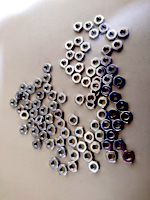nut: (122, 150, 135, 164), (114, 139, 127, 152), (102, 139, 115, 152), (112, 39, 125, 52), (106, 151, 119, 163), (88, 161, 101, 173), (90, 141, 102, 154), (100, 119, 112, 132), (120, 111, 133, 123), (106, 129, 118, 141), (118, 27, 130, 39), (84, 132, 95, 144), (68, 115, 79, 127), (113, 121, 125, 132), (116, 101, 128, 112), (114, 76, 125, 88), (86, 93, 97, 105), (101, 55, 113, 66), (89, 28, 100, 40), (73, 21, 84, 33), (83, 150, 93, 163), (90, 119, 100, 132), (75, 94, 86, 105), (68, 162, 79, 173), (91, 81, 102, 92), (67, 136, 78, 147), (106, 30, 117, 41), (101, 45, 112, 56), (59, 58, 70, 69), (47, 125, 58, 136), (19, 110, 30, 121), (77, 141, 87, 153), (95, 130, 105, 142), (109, 109, 119, 121), (58, 164, 68, 176), (103, 74, 113, 86), (82, 76, 92, 88), (72, 73, 82, 85), (106, 65, 118, 75), (99, 22, 109, 34), (94, 14, 104, 26), (84, 20, 94, 32), (57, 93, 67, 105), (74, 127, 84, 138), (99, 97, 109, 108), (111, 92, 121, 103), (69, 150, 79, 161), (81, 42, 92, 52), (65, 65, 75, 76), (49, 158, 59, 169), (32, 140, 43, 150), (61, 128, 71, 139), (54, 109, 64, 120), (48, 91, 58, 102), (36, 90, 46, 101), (39, 105, 49, 116), (30, 126, 40, 137), (75, 62, 84, 74), (56, 136, 65, 148), (57, 118, 66, 130), (97, 110, 107, 120), (91, 58, 101, 68), (75, 51, 85, 61), (86, 67, 96, 77), (57, 149, 67, 159), (39, 132, 49, 142), (43, 63, 53, 73), (43, 73, 53, 83), (102, 86, 111, 97), (75, 36, 84, 47), (46, 139, 55, 150), (9, 97, 18, 108), (38, 120, 47, 131), (87, 99, 96, 109), (92, 88, 101, 98), (93, 76, 102, 86), (34, 79, 43, 89), (32, 100, 41, 110), (29, 108, 38, 118), (49, 101, 58, 111), (15, 106, 25, 115), (27, 84, 35, 95), (20, 125, 28, 136), (65, 40, 74, 49), (21, 92, 30, 101), (45, 114, 54, 123), (43, 83, 51, 93), (19, 83, 27, 92), (24, 102, 32, 110), (66, 50, 73, 59), (97, 68, 106, 75), (27, 119, 36, 126), (36, 116, 44, 123)
